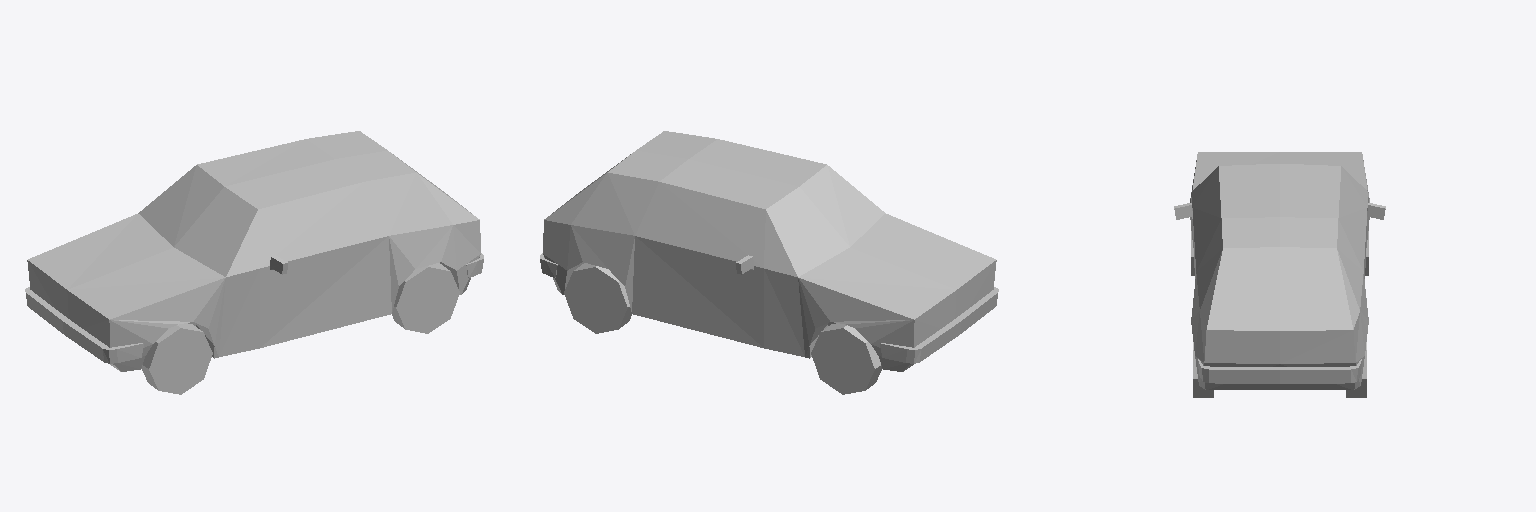
File: Car3_o2.obj
3 renders of one model, left to right at view 1: azimuth 30°, elevation 25°; view 2: azimuth 150°, elevation 25°; view 3: azimuth 270°, elevation 25°, orthographic.
Parts seen in each view (by area): view 1: Car3; view 2: Car3; view 3: Car3.
Part boxes in pixels (bbox=[...]): Car3: bbox=[25, 131, 483, 394]; Car3: bbox=[540, 131, 998, 394]; Car3: bbox=[1174, 152, 1385, 397].
Size of the model in its own units: 3.37 by 1.29 by 1.59.